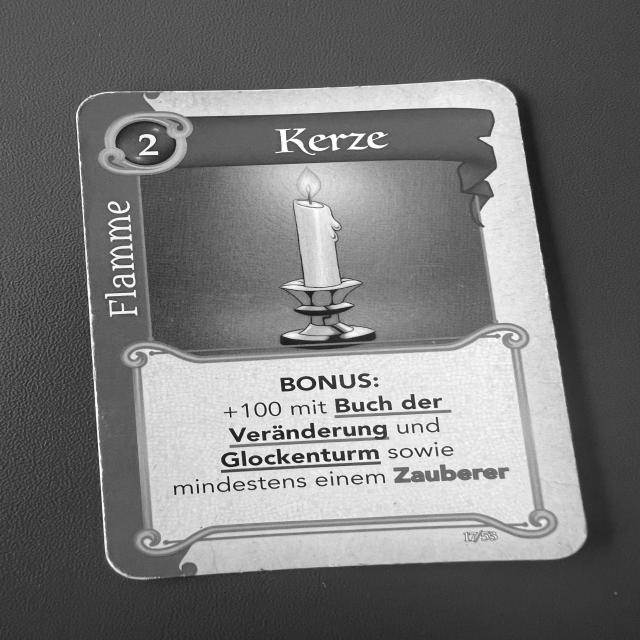Candle: (73, 76, 594, 584)
